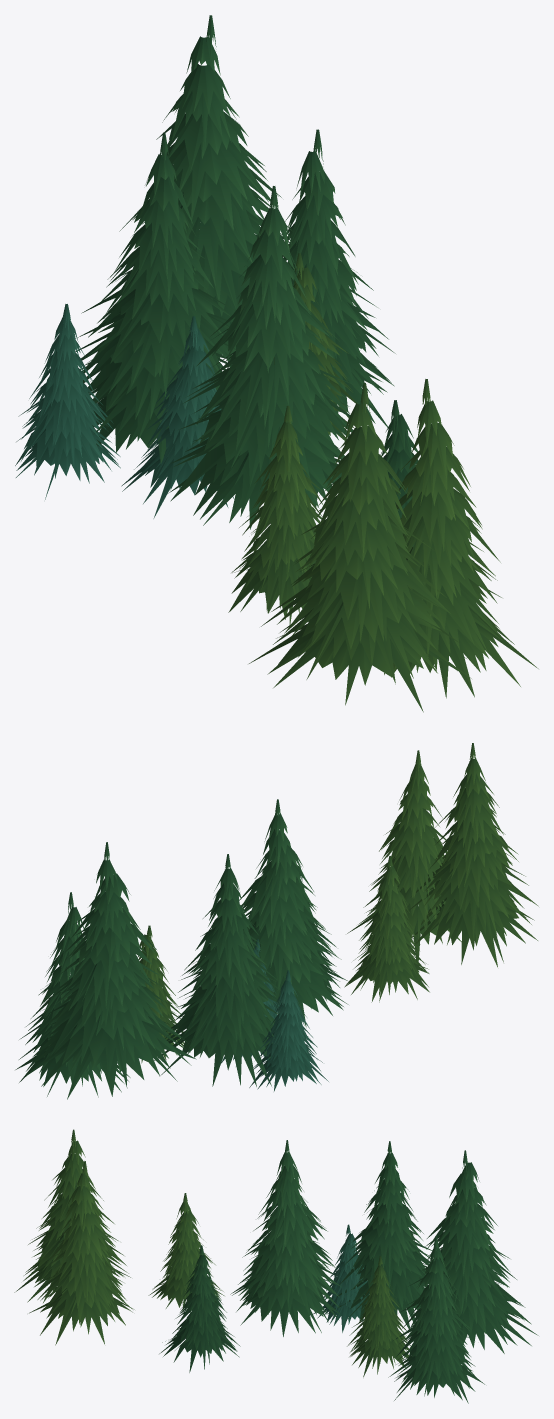
The model's file is pine_24.glb.
The picture shows the model from 3 angles, top to bottom: view 1: azimuth 30°, elevation 25°; view 2: azimuth 150°, elevation 25°; view 3: azimuth 270°, elevation 25°; orthographic projection. The views are drawn at different scales.
Parts seen in each view (by area): view 1: pine_24; view 2: pine_24; view 3: pine_24.
Part boxes in pixels (x1,y1,x2,y2): pine_24: (15, 15, 538, 712); pine_24: (15, 743, 538, 1099); pine_24: (14, 1129, 538, 1403).
Size of the model in its own units: 19.19 by 16.45 by 35.19.
Materials: 1 (1 with a texture image).
